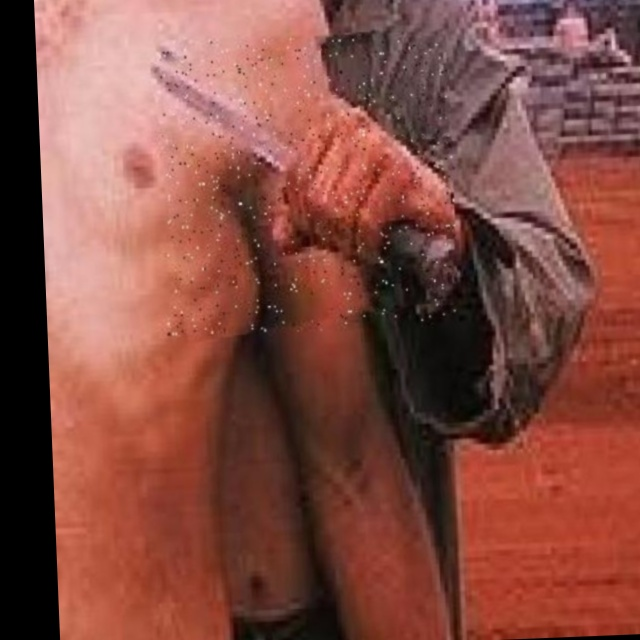Sharp-Object: (157, 30, 462, 336)
